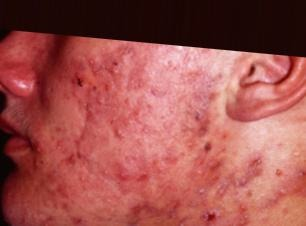Acne: (14, 47, 303, 219)
